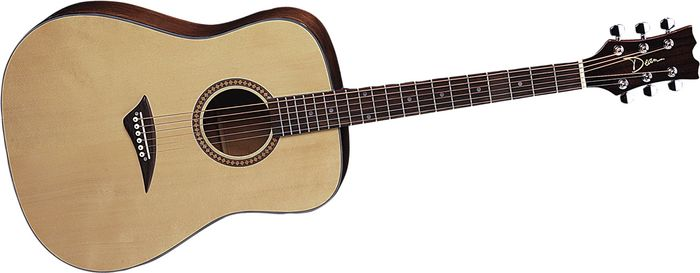guitar: (1, 1, 700, 273)
